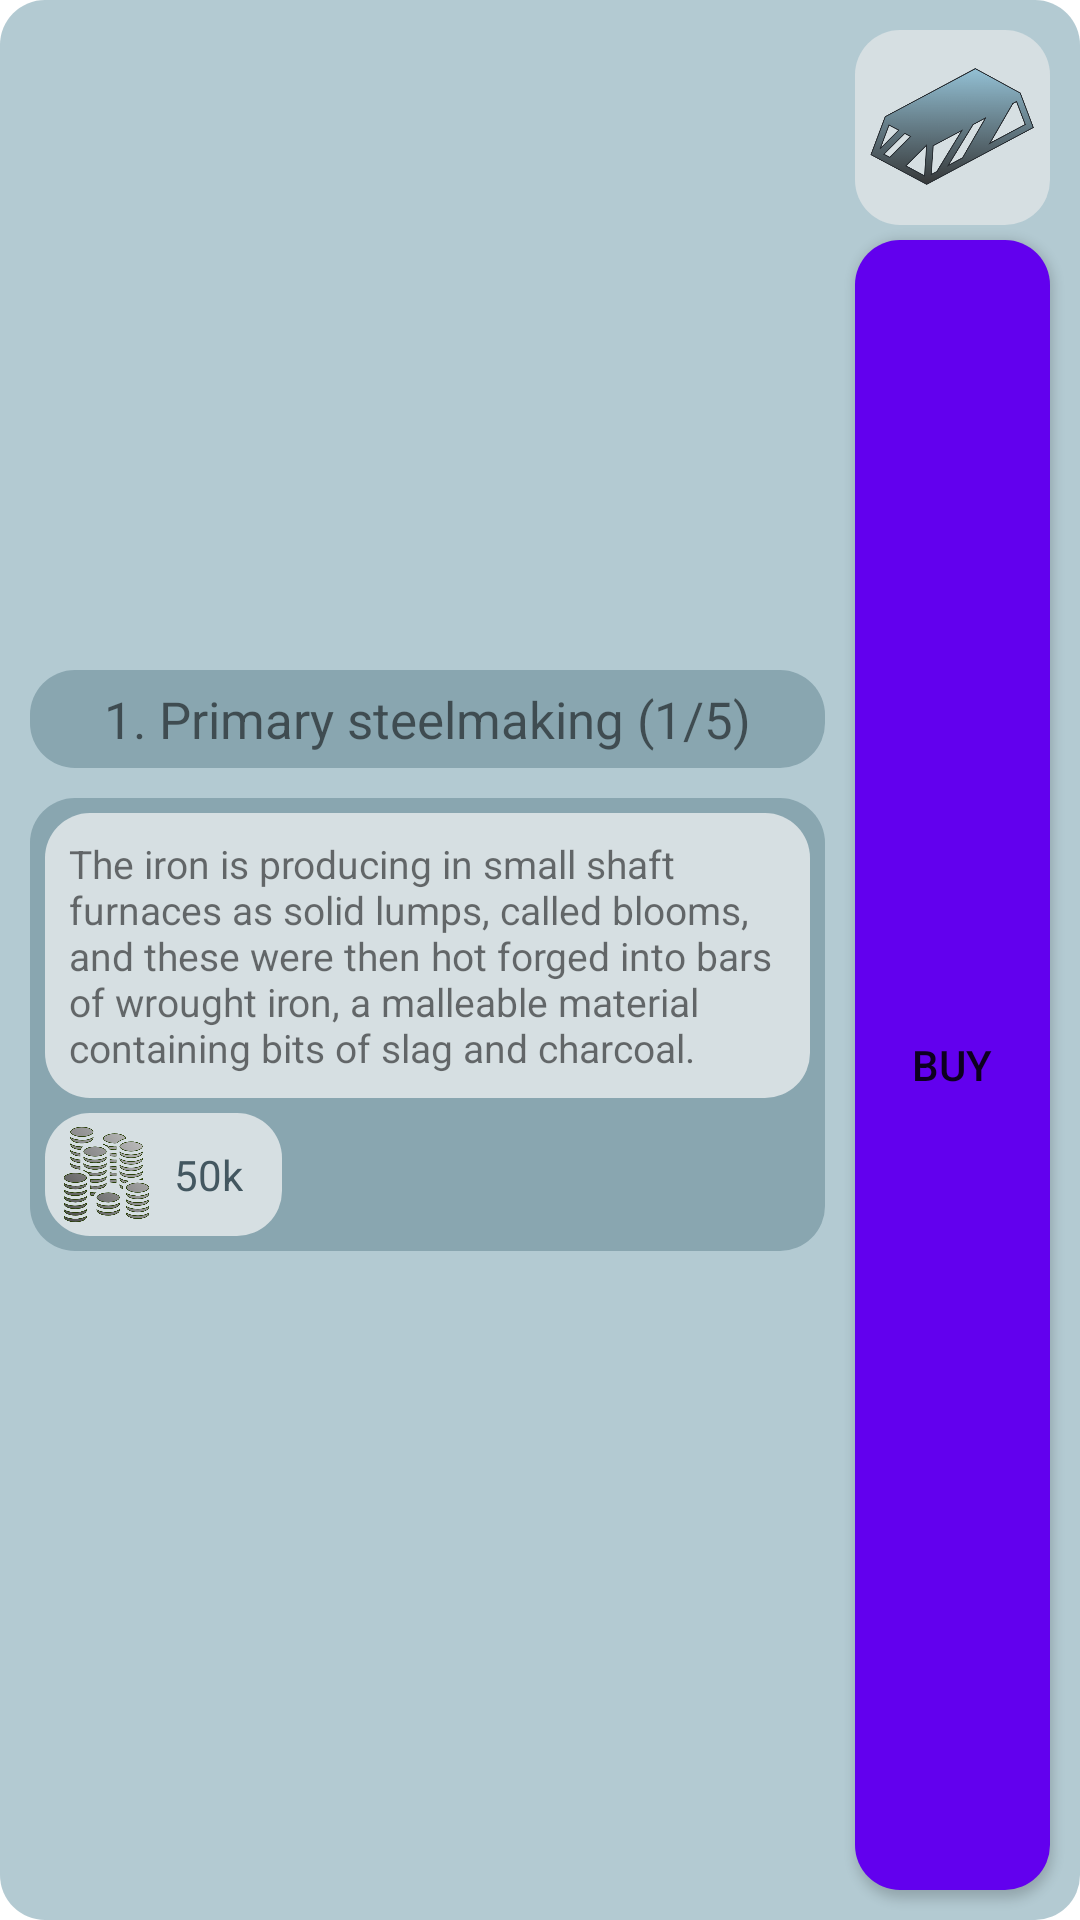

Screen size 1080×1920. Icon name, then its box in pixels as (x1, y1, x2, y2):
coins: (64, 1127, 149, 1222)
steel: (855, 30, 1050, 225)
